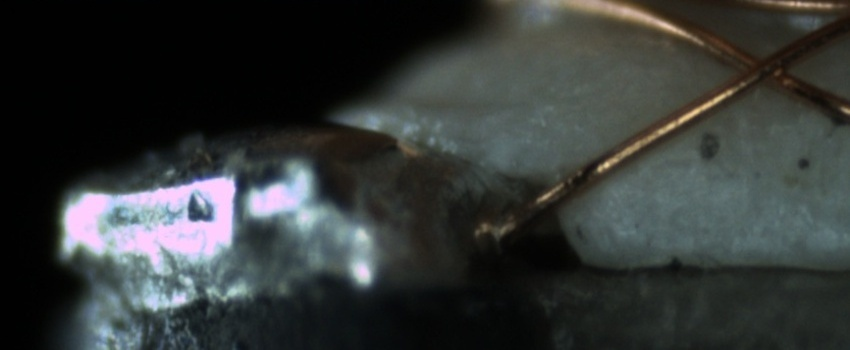CL: (713, 38, 813, 98)
